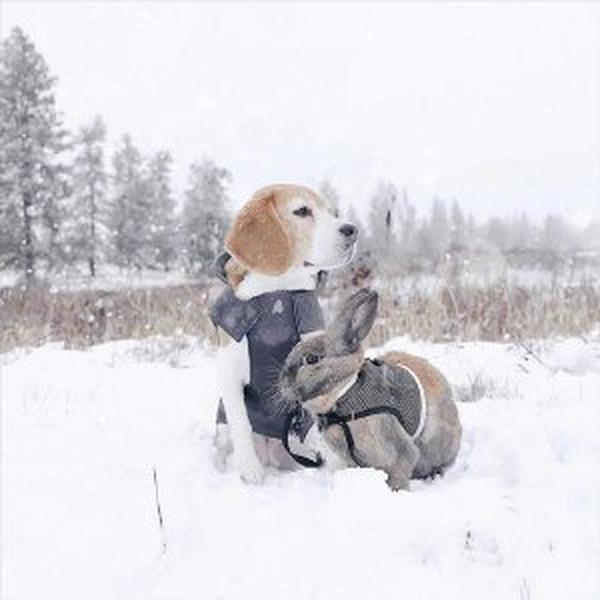allqu: (194, 175, 362, 501)
